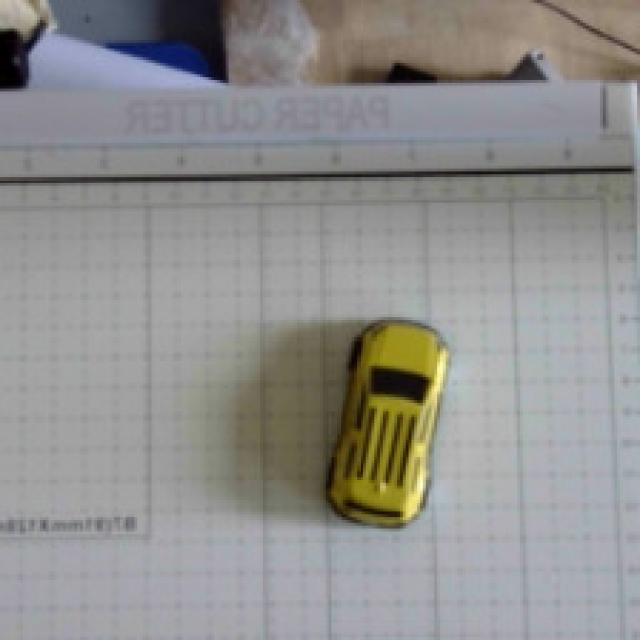Yellow Car: (255, 290, 482, 539)
